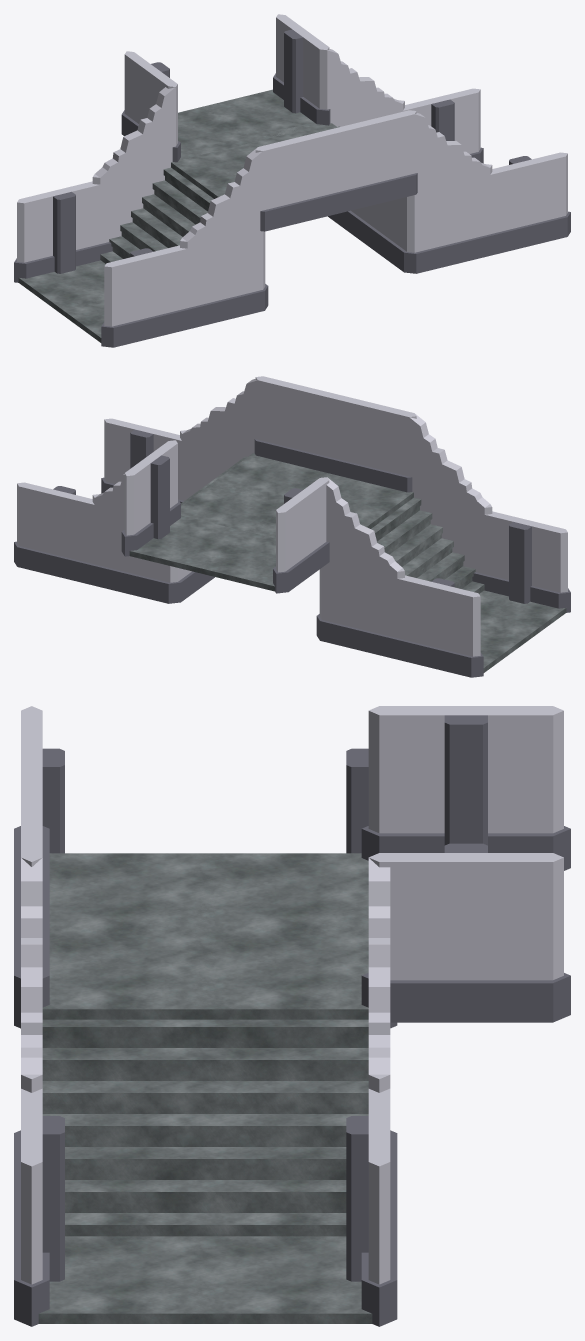
Rendered from intersection_3way_stair_04.fbx.
3 views of the same model, one above another, from view 1: azimuth 30°, elevation 25°; view 2: azimuth 150°, elevation 25°; view 3: azimuth 270°, elevation 25° (orthographic). The views are drawn at different scales.
Parts seen in each view (by area): view 1: stairs_01_59, stairs_01_58, wall_02_72, wall_02_69, wall_02_71, wall_01_57, wall_01_56, floor_04_63, wall_02_70, floor_04_66, floor_01_47, wall_02_68 (+1 smaller); view 2: stairs_01_59, stairs_01_58, floor_01_47, wall_02_69, wall_02_72, wall_02_68, wall_01_56, wall_01_57, floor_04_63, wall_02_67, wall_02_70, floor_04_66 (+1 smaller); view 3: stairs_01_58, floor_01_47, wall_02_70, wall_02_67, floor_04_65, wall_02_68, wall_02_71, wall_01_56, wall_01_57, wall_02_69, wall_02_72, stairs_01_59.
Boxes of the visible parts, x1,y1,x2,y2 form: stairs_01_59: (92, 83, 268, 328); stairs_01_58: (319, 47, 492, 273); wall_02_72: (101, 245, 189, 347); wall_02_69: (14, 181, 102, 282); wall_02_71: (488, 152, 570, 255); wall_01_57: (255, 128, 340, 231); wall_01_56: (332, 110, 417, 212); floor_04_63: (178, 89, 313, 160); wall_02_70: (273, 14, 330, 125); floor_04_66: (18, 261, 104, 342); floor_01_47: (171, 122, 337, 198); wall_02_68: (403, 88, 483, 163); stairs_01_59: (316, 414, 492, 658); stairs_01_58: (92, 377, 264, 603); floor_01_47: (181, 453, 413, 538); wall_02_69: (395, 575, 483, 677); wall_02_72: (483, 511, 570, 612); wall_02_68: (14, 482, 96, 585); wall_01_56: (254, 376, 340, 473); wall_01_57: (331, 395, 416, 492); floor_04_63: (129, 515, 275, 591); wall_02_67: (273, 477, 329, 593); wall_02_70: (121, 440, 180, 556); floor_04_66: (480, 590, 566, 672); stairs_01_58: (14, 853, 397, 1240); floor_01_47: (42, 853, 368, 1019); wall_02_70: (361, 843, 570, 1022); wall_02_67: (361, 706, 570, 870); floor_04_65: (38, 1236, 372, 1323); wall_02_68: (346, 1088, 397, 1326); wall_02_71: (14, 1088, 64, 1326); wall_01_56: (14, 779, 49, 1017); wall_01_57: (14, 706, 49, 904); wall_02_69: (346, 748, 368, 853); wall_02_72: (42, 748, 64, 853); stairs_01_59: (14, 710, 397, 1028).
Size of the model in its own units: 62.05 by 20 by 32.05.
